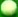white: (0, 0, 18, 17)
